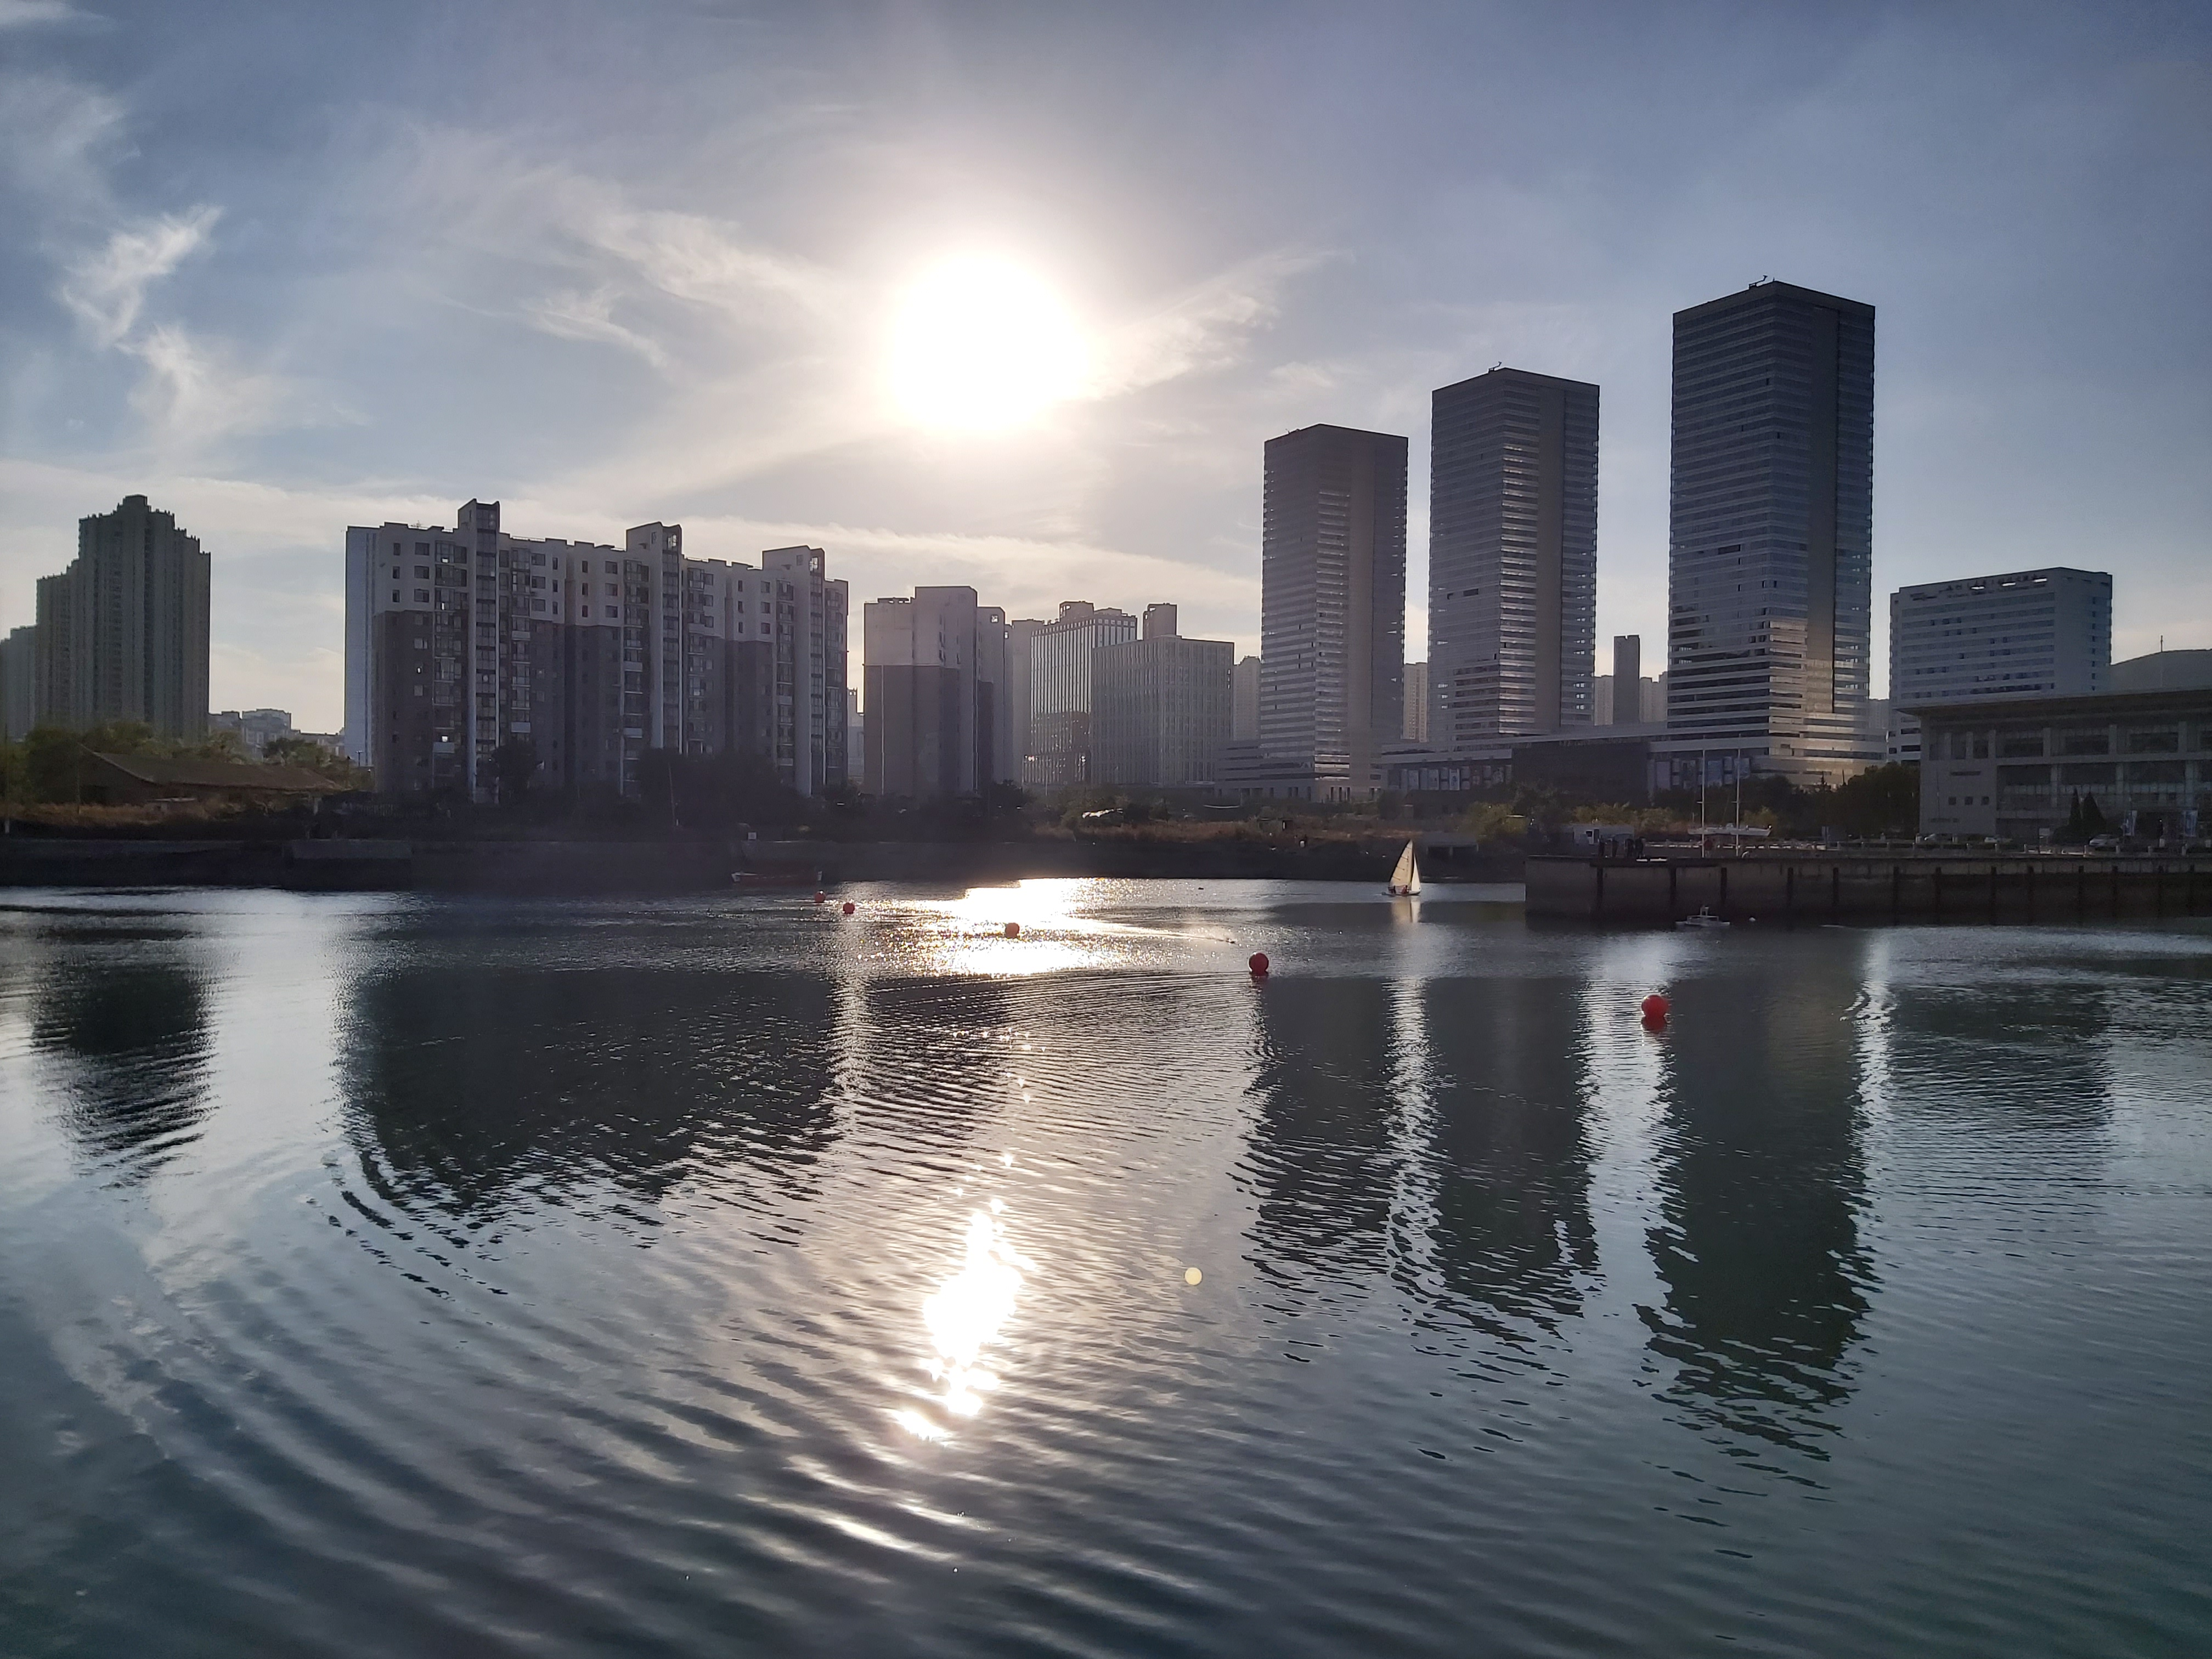ball: (1639, 993, 1676, 1026), (1249, 950, 1275, 979)
boat: (1376, 840, 1430, 899)
